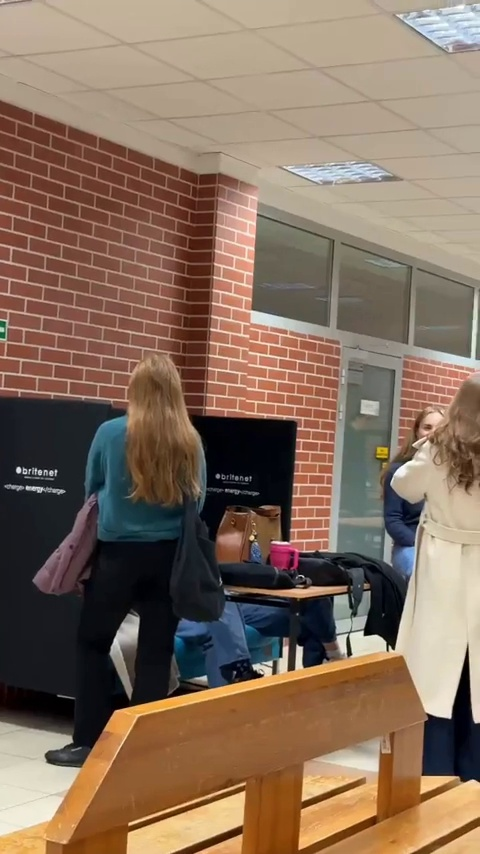no vest: (96, 352, 207, 704), (386, 362, 480, 707)
